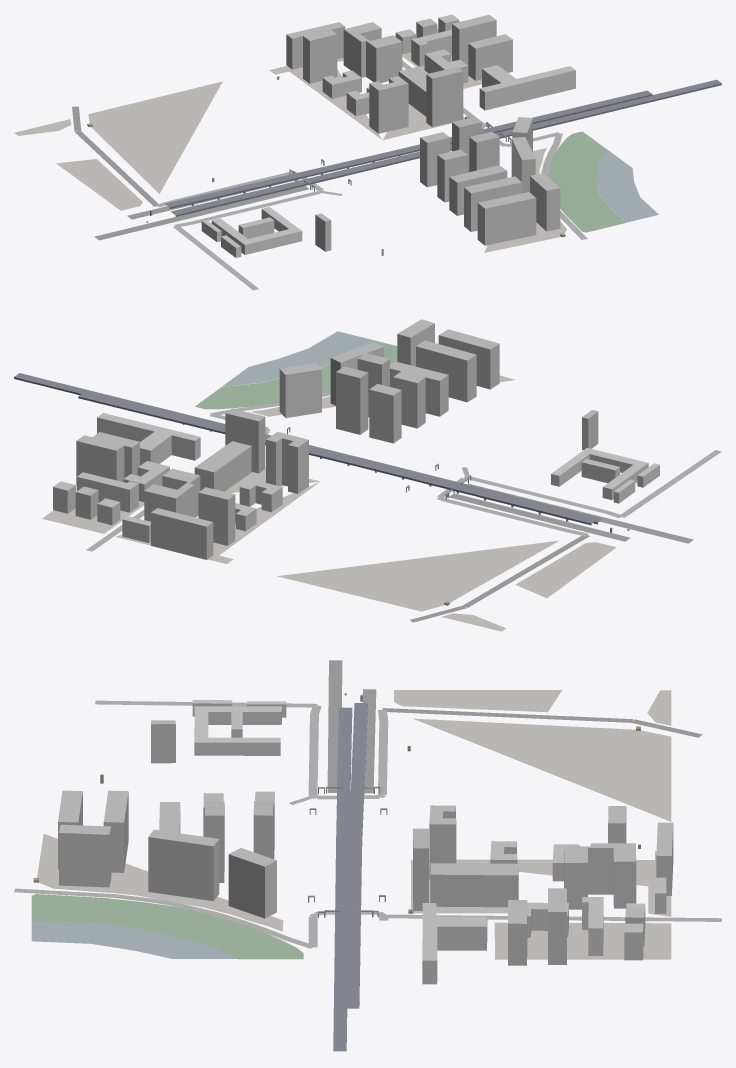
The picture shows the model from 3 angles, top to bottom: view 1: azimuth 30°, elevation 25°; view 2: azimuth 150°, elevation 25°; view 3: azimuth 270°, elevation 25°; orthographic projection. The views are drawn at different scales.
Bounding box in the file's own units: 732 × 59.91 × 553.
